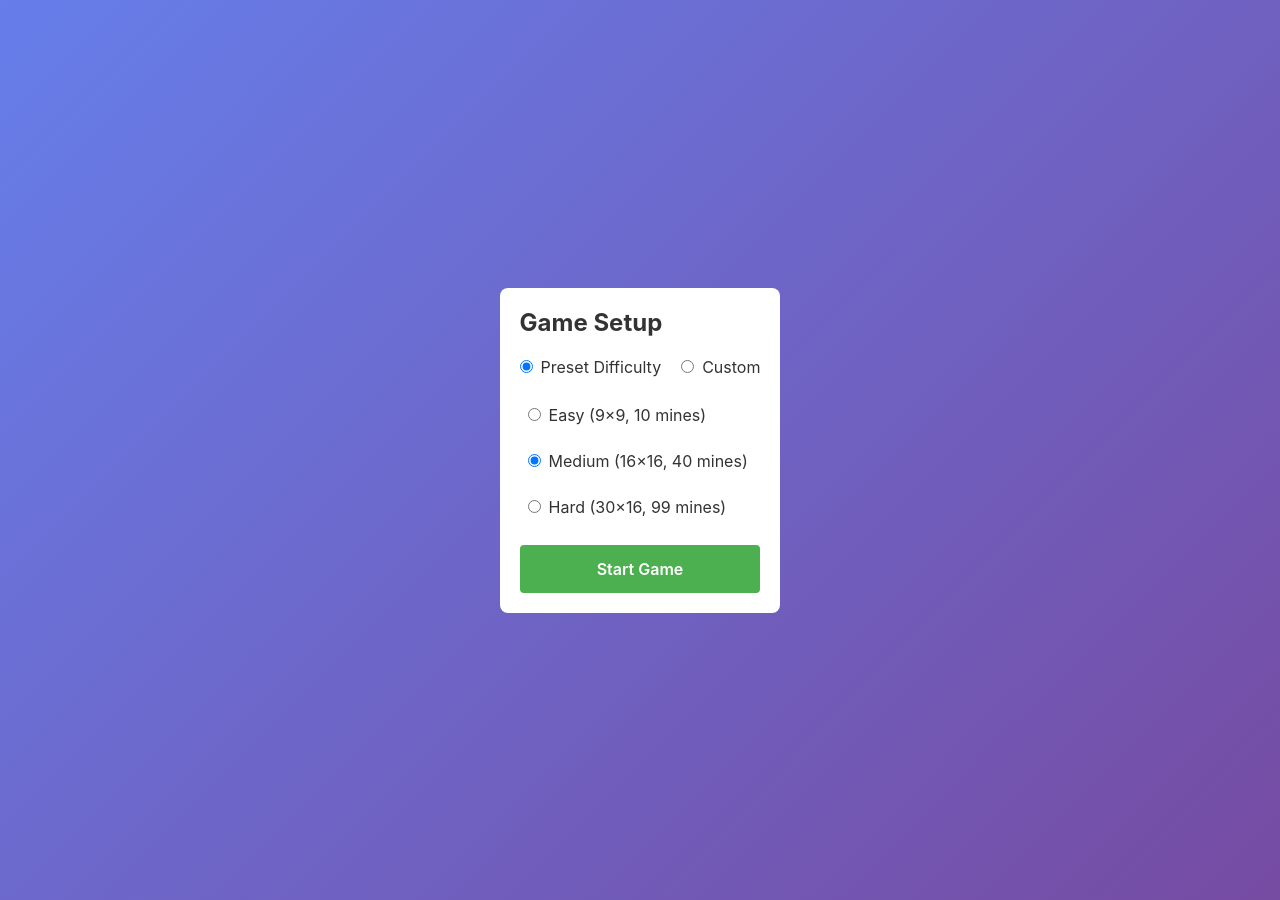
Test case: Game Component - Integration Tests › 1. Game Initialization › should start game with Easy preset (9×9 grid)
# Select Easy and start
Click the radio button labelled "Easy (9×9, 10 mines)" at coordinates (534, 414), box x1=528 y1=408 x2=541 y2=421
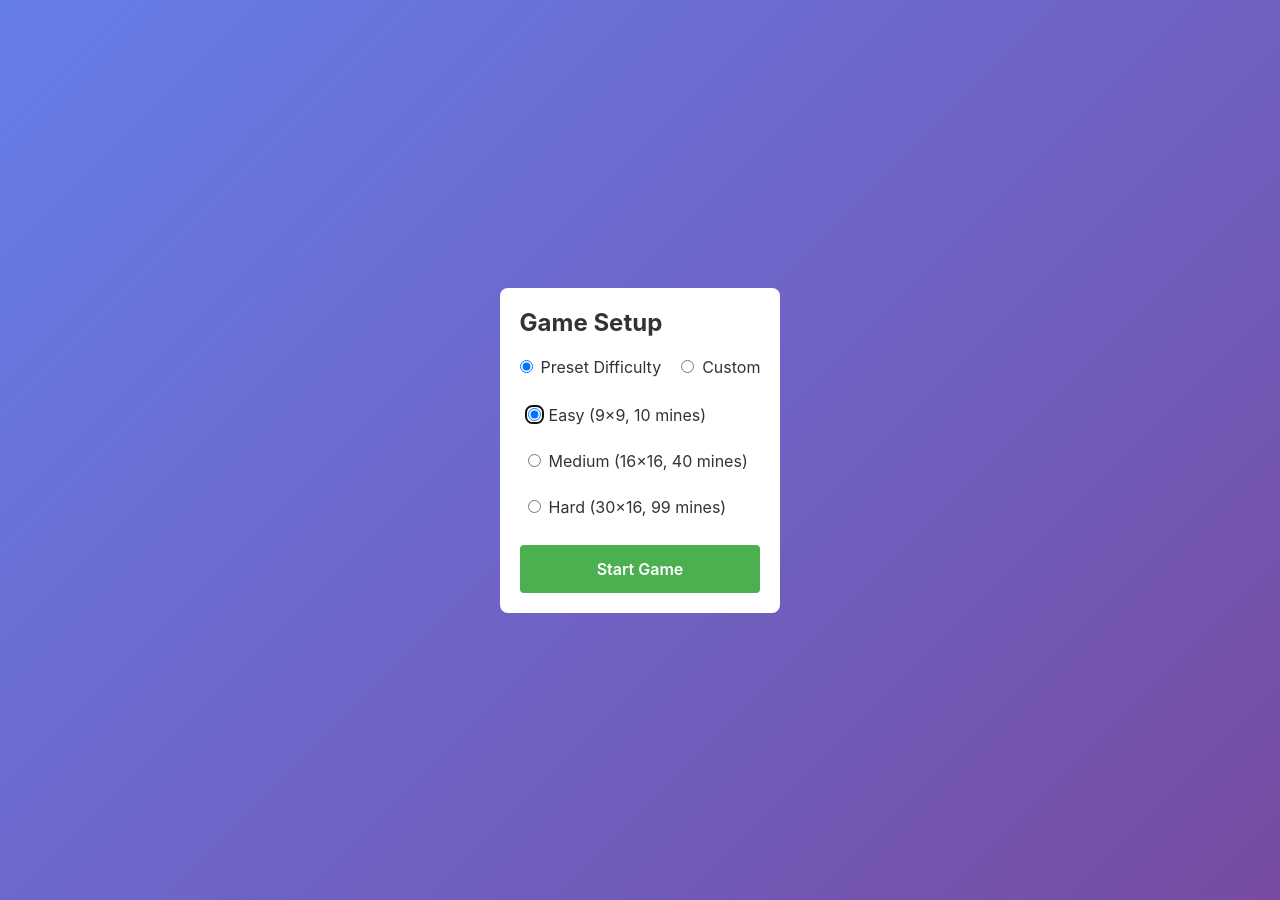
Click the button "Start Game" at coordinates (640, 568), box x1=520 y1=544 x2=760 y2=592
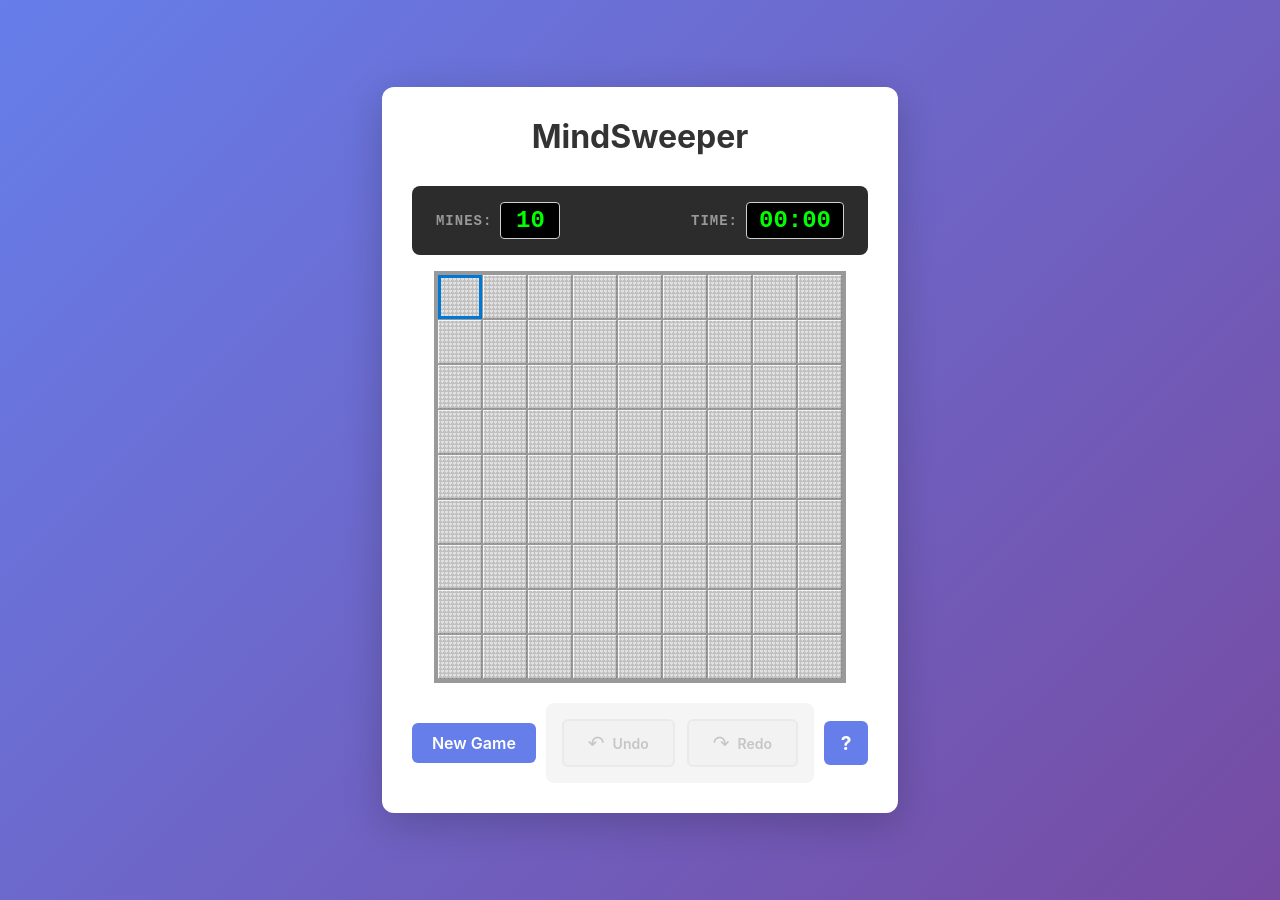
Expected: the text "10" is shown, x1=500 y1=202 x2=560 y2=239
Result: the heading "MindSweeper" is shown at x1=532 y1=117 x2=748 y2=156
Result: the number of buttons named "cell" is 81
